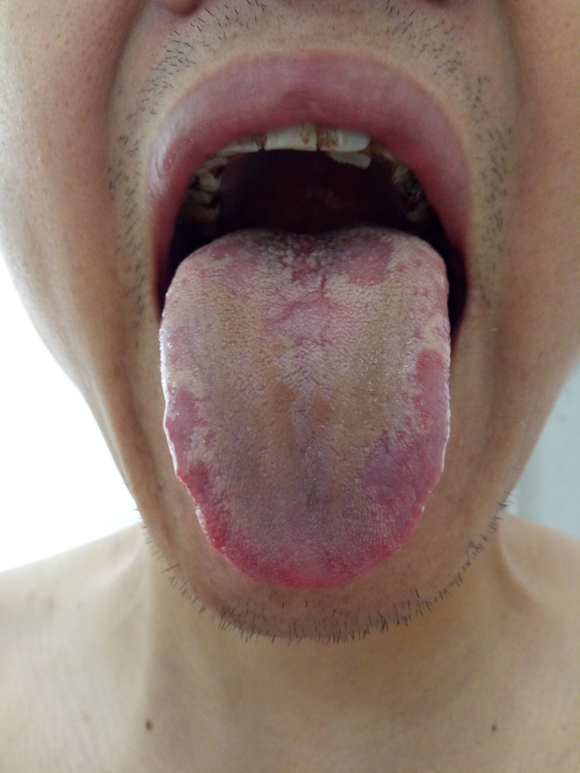botaishe: (396, 341, 452, 517), (310, 228, 398, 295)
hongshe: (158, 222, 451, 592)
huangtaishe: (158, 222, 451, 592)
liewenshe: (271, 273, 336, 353)
